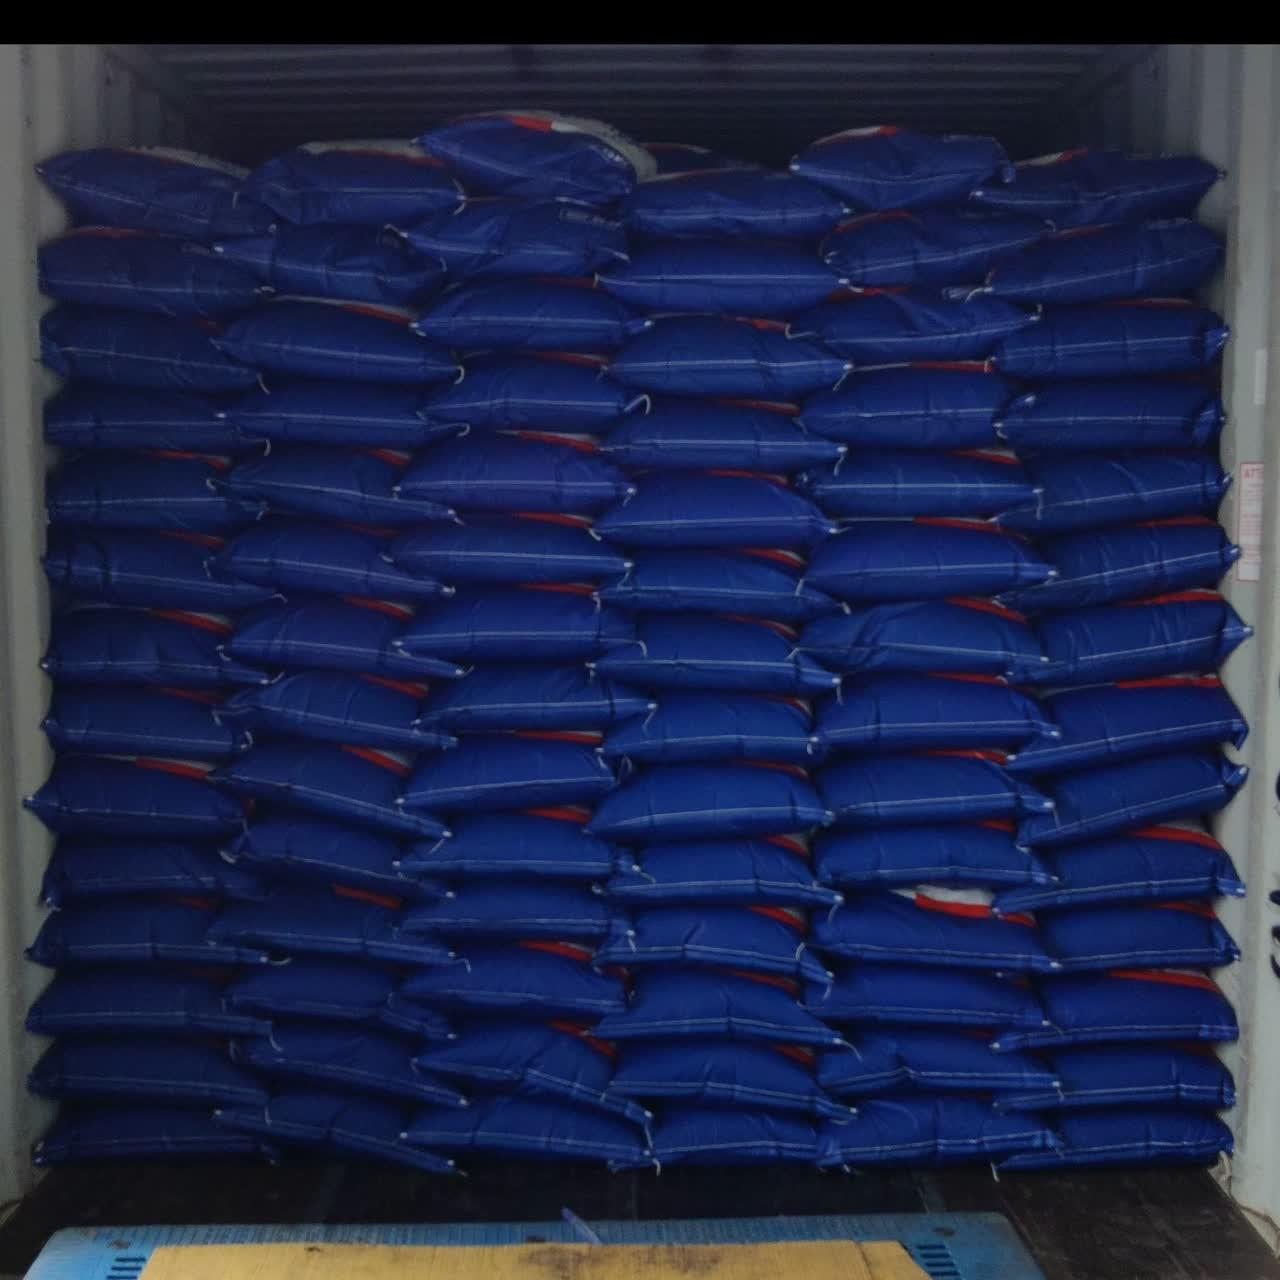sack: (409, 1016, 652, 1120), (1003, 585, 1252, 685), (220, 733, 450, 840), (1020, 744, 1247, 850), (994, 820, 1249, 914), (993, 514, 1242, 610), (1008, 671, 1251, 769), (227, 798, 449, 901), (623, 145, 858, 241), (970, 217, 1222, 305), (37, 144, 278, 236), (215, 874, 456, 965), (822, 204, 1054, 297), (989, 293, 1230, 382), (210, 516, 455, 603), (589, 610, 841, 694), (35, 218, 265, 310), (992, 967, 1238, 1053), (232, 1016, 464, 1107), (788, 284, 1044, 366), (804, 518, 1053, 602), (809, 886, 1059, 969), (217, 298, 464, 382), (811, 674, 1057, 758), (405, 579, 637, 668), (42, 595, 271, 685), (224, 596, 468, 680), (609, 315, 855, 398), (590, 762, 833, 845), (43, 524, 282, 608), (587, 965, 841, 1044), (397, 196, 627, 283), (423, 114, 660, 198), (219, 668, 459, 750), (247, 135, 468, 224), (992, 452, 1231, 534), (403, 723, 622, 812), (608, 1038, 850, 1118), (817, 747, 1053, 829), (812, 1023, 1056, 1102), (401, 797, 644, 876), (218, 1090, 449, 1172), (39, 299, 259, 385), (597, 399, 849, 474), (599, 687, 824, 771), (419, 351, 646, 434), (395, 430, 633, 509), (210, 227, 454, 304), (798, 364, 1021, 448), (405, 936, 628, 1020), (596, 470, 842, 546), (593, 547, 848, 620), (788, 129, 1014, 211), (236, 954, 448, 1040), (27, 1035, 276, 1108), (801, 600, 1050, 673), (224, 446, 457, 524), (597, 832, 845, 905), (974, 148, 1218, 222), (26, 753, 251, 833), (992, 1043, 1237, 1116), (397, 510, 634, 585), (597, 243, 840, 316), (27, 967, 274, 1038), (28, 895, 270, 967), (602, 906, 830, 982), (48, 447, 267, 526), (411, 281, 657, 351), (819, 1094, 1061, 1164), (406, 1097, 648, 1167), (46, 835, 274, 909), (794, 449, 1043, 516), (801, 960, 1044, 1027), (819, 819, 1058, 887), (997, 382, 1225, 450), (227, 379, 464, 444), (44, 683, 254, 755), (43, 380, 265, 448), (422, 669, 660, 730), (37, 1106, 277, 1166), (1043, 901, 1242, 973), (997, 1110, 1233, 1169), (407, 879, 635, 936), (649, 1108, 839, 1164)
